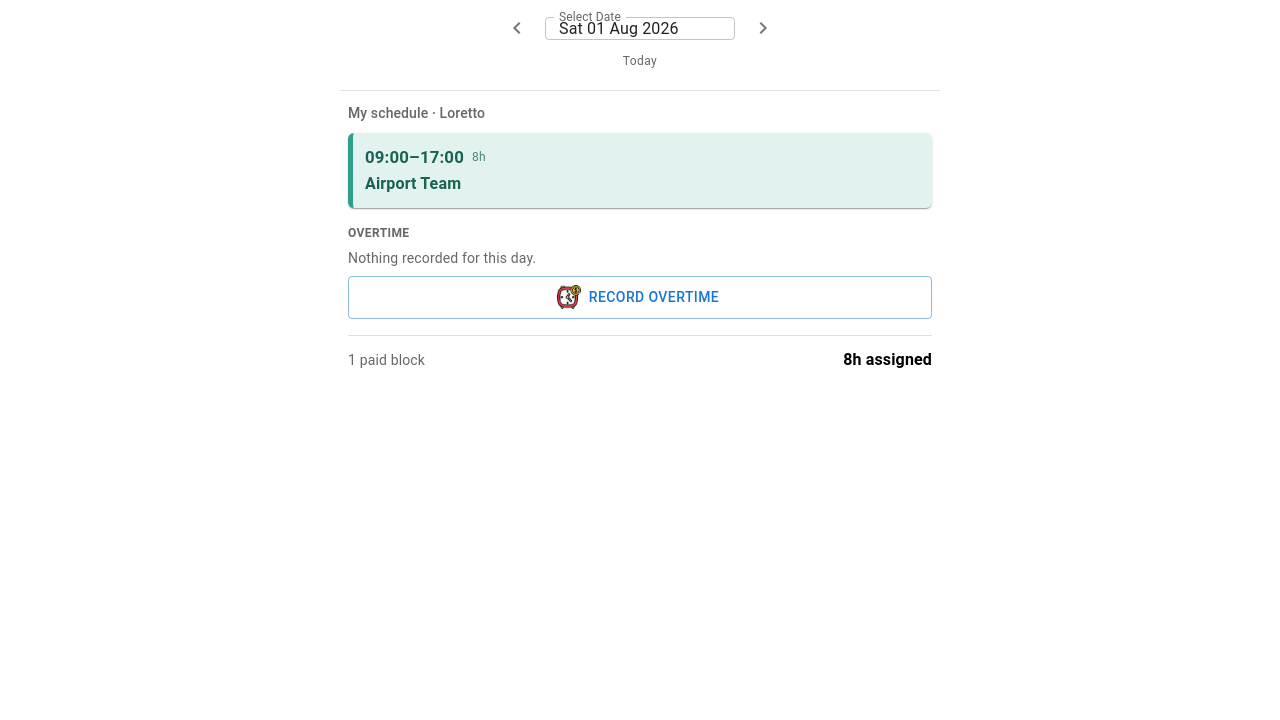
Test: keeps an entry the backend would reject on the client
The width and height of the screenshot is (1280, 720).
expect the text "Airport Team" is shown: met, box [365, 174, 461, 193]
Step 1. Click the button "Record overtime" → [640, 297], box [348, 276, 932, 319]
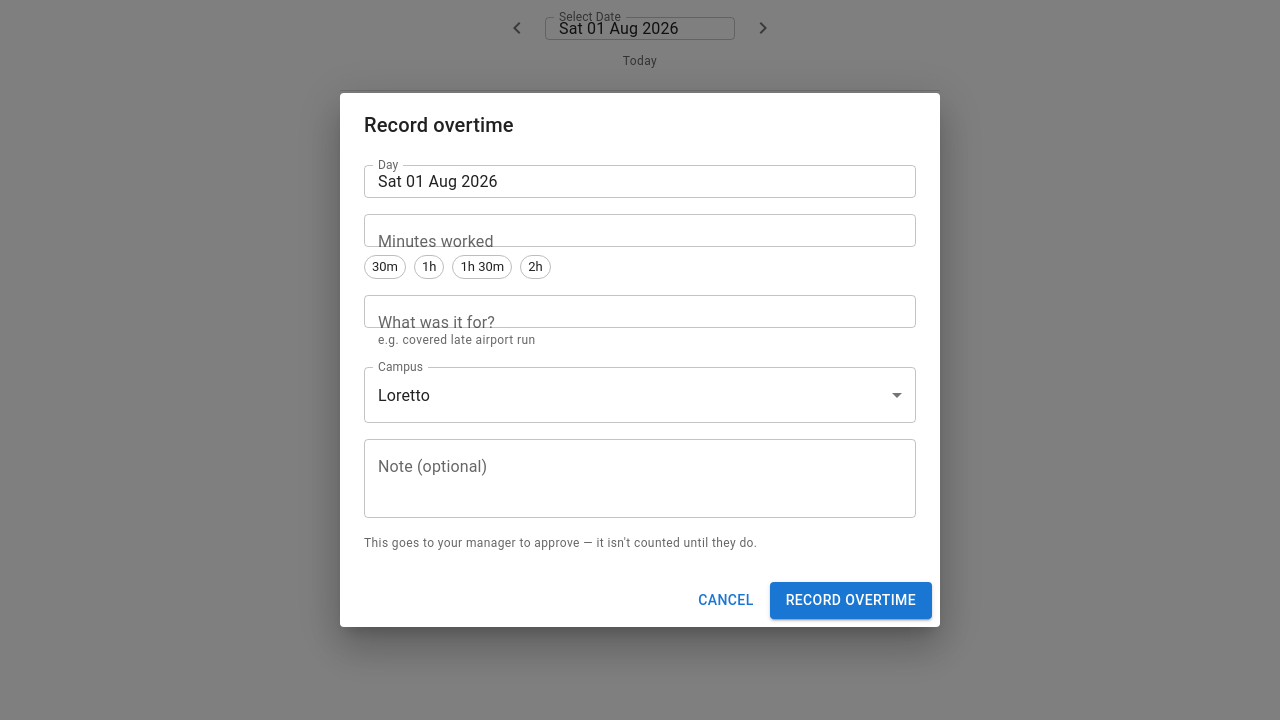
A reason but no minutes — a guaranteed 400.
Step 2. Type "Late airport run" into the field labelled "What was it for?" → [640, 312], box [364, 295, 916, 328]
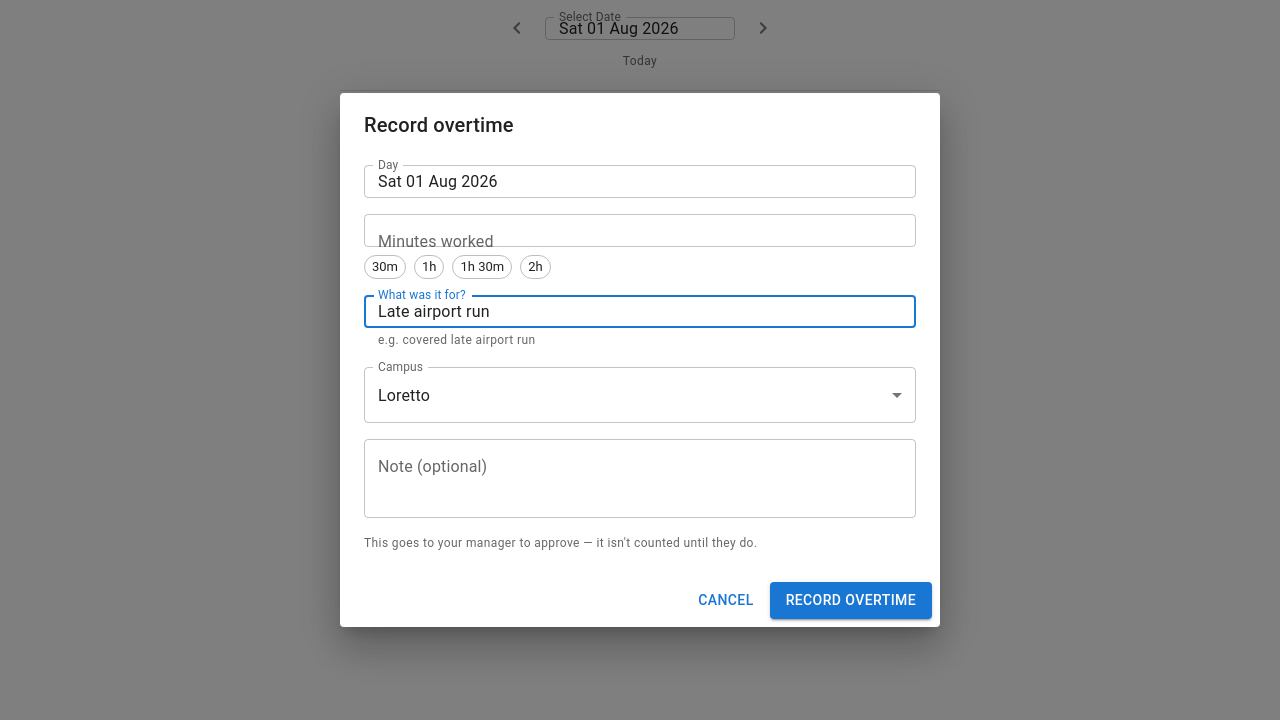
Step 3. Click the button "Record overtime" → [851, 600], box [770, 582, 932, 619]
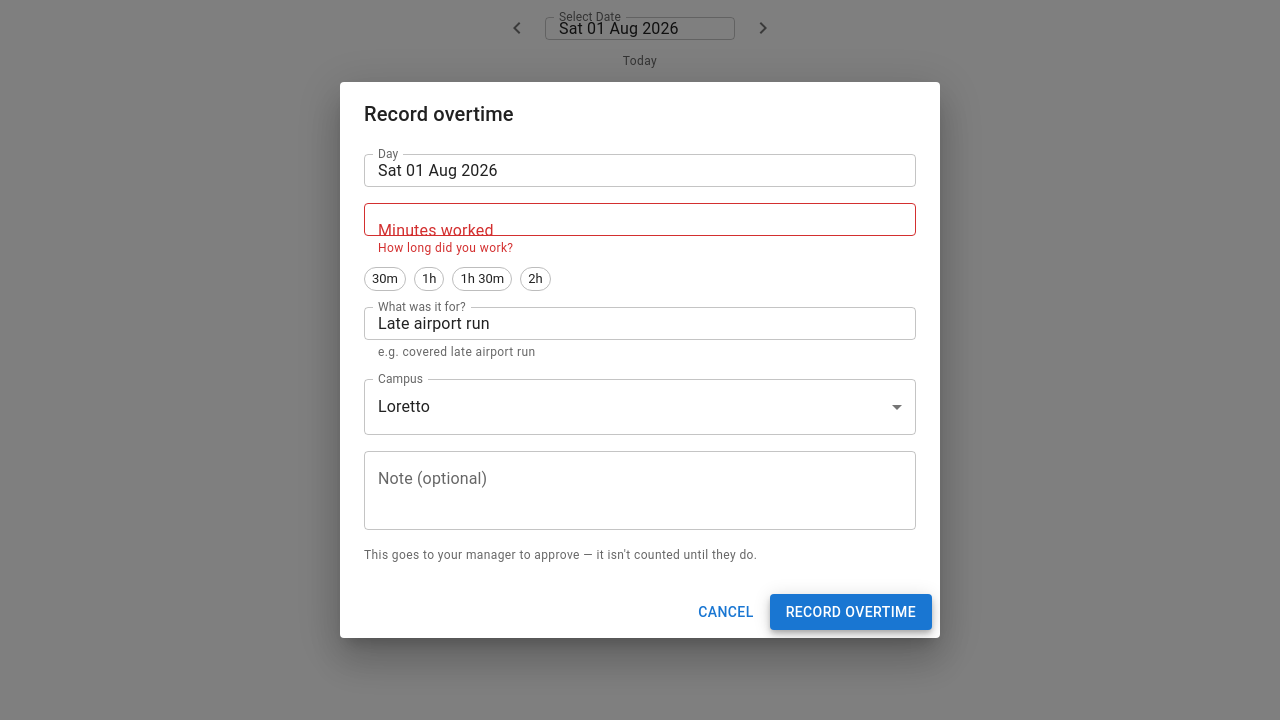
expect the text "How long did you work?" is shown: met, box [378, 241, 514, 255]
